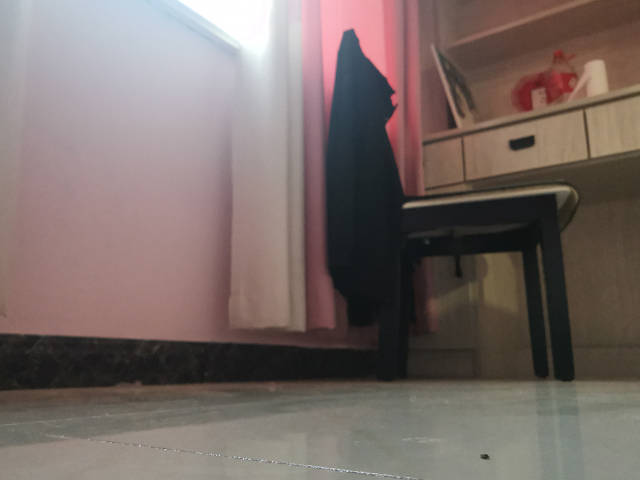curtain: (230, 1, 445, 333)
stool: (322, 26, 584, 384)
